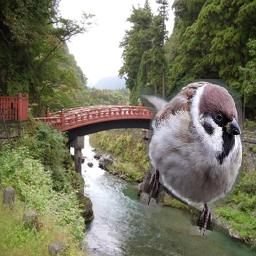Sparrow: (140, 79, 242, 235)
